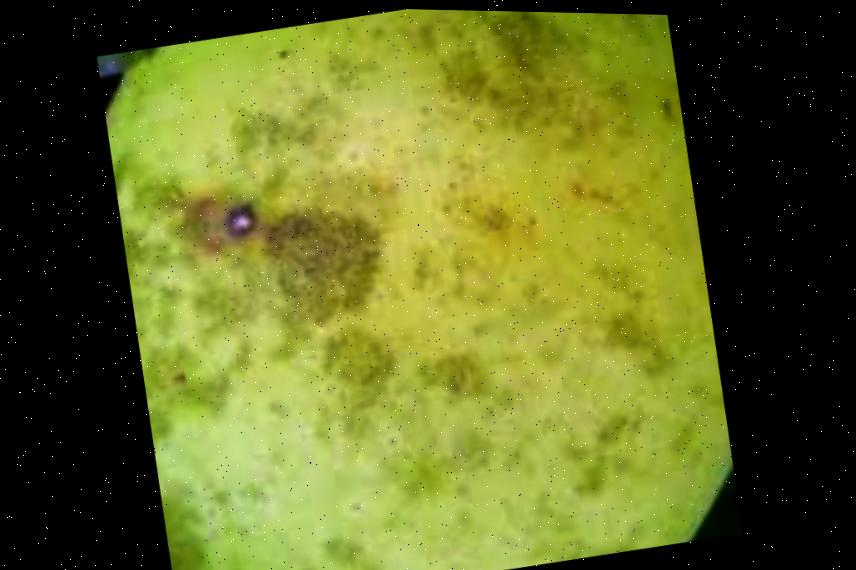BLOTCH: (81, 2, 758, 570)
